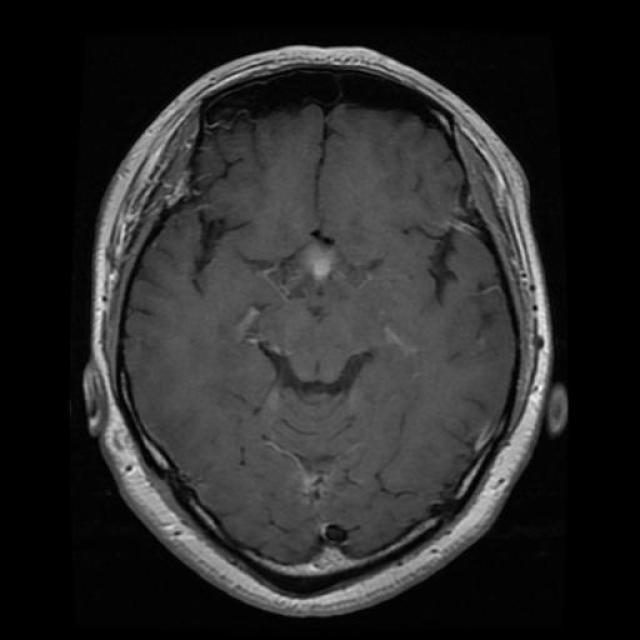pituitary: (280, 225, 350, 299)
